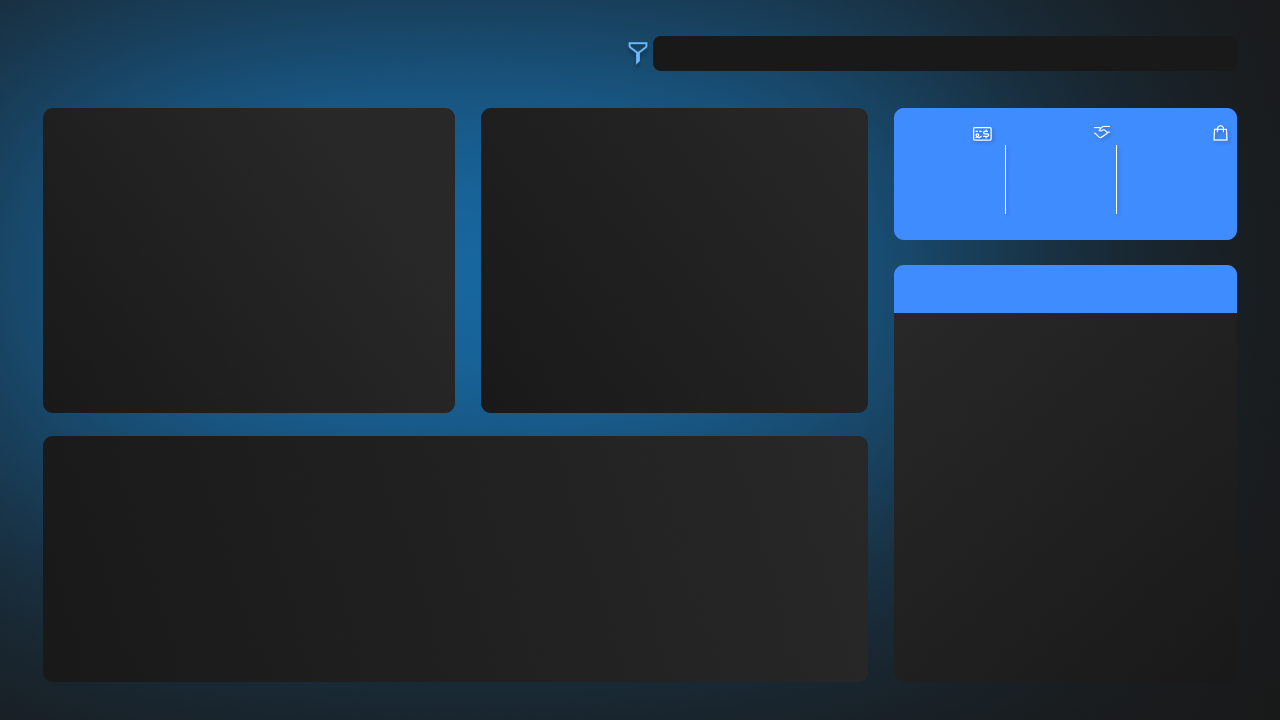

Layout of this report page (visuals, bound fields, positions):
{"tool":"powerbi","page":{"name":"Página 1","canvas":[1280,720],"ordinal":0},"visuals":[{"type":"card","fields":{"Values":["Sum(registroVendas.Total de Vendas)"]},"box":[892.4,150.8,112.2,34.1],"z":0},{"type":"card","fields":{"Values":["Avg(registroVendas.Total de Vendas)"]},"box":[1115.9,150.8,120.3,34.1],"z":1000},{"type":"clusteredColumnChart","title":"Faturamento por período","fields":{"Y":["Sum(registroVendas.Total de Vendas)"],"Category":["registroVendas.Data Pedido.Variation.Hierarquia de datas.Mês"]},"box":[50.3,444.4,817,237.9],"z":2000},{"type":"pieChart","title":"Formas de Pagamento","fields":{"Y":["Sum(registroVendas.Total de Vendas)"],"Category":["Vendas.Pagamento"]},"box":[490.2,123.9,366.3,289.1],"z":3000},{"type":"columnChart","title":" Total de Vendas por Nome Loja","fields":{"Category":["Lojas.Nome Loja"],"Y":["Sum(Vendas.Total de Vendas)"]},"box":[50.3,123.9,405.8,289.1],"z":4000},{"type":"tableEx","fields":{"Values":["Vendas.Produto","Sum(Vendas.Total de Vendas)","Divide(Sum(Vendas.Total de Vendas), ScopedEval(Sum(Vendas.Total de Vendas), []))"]},"box":[893.3,316,342.9,255.9],"z":5000},{"type":"slicer","fields":{"Values":["Vendas.Produto"]},"box":[660,36.8,600.6,27.8],"z":6000},{"type":"textbox","title":"Gestão de vendas / Dashboard","box":[50,27,511.7,49.4],"z":7000},{"type":"textbox","title":"Acompanhamento das vendas","box":[50.3,62,238.8,18],"z":8000},{"type":"card","fields":{"Values":["Vendas.Comissão"]},"box":[1004.6,150.8,111.3,34.1],"z":9000},{"type":"textbox","title":"Faturamento","box":[892.4,189.4,112.2,18.9],"z":10000},{"type":"textbox","title":"Comissão","box":[1003.7,189.4,112.2,18.9],"z":11000},{"type":"textbox","title":"Ticket Médio","box":[1115.9,189.4,120.3,18.9],"z":12000},{"type":"textbox","title":"em reais","box":[891.5,202,112.2,12.6],"z":13000},{"type":"textbox","title":"em reais","box":[1003.7,202,112.2,12.6],"z":14000},{"type":"textbox","title":"em reais","box":[1115.9,202,112.2,12.6],"z":15000},{"type":"textbox","title":"Filtros","box":[622,38.6,61.9,25.1],"z":16000},{"type":"textbox","title":"Análise por produto","box":[893.3,274,342.9,35],"z":17000}]}

Visuals, with their boxes in screenshot pixels (x1, y1, x2, y2), scaled from the page's 1280x720 canvas onto the 1280x720 screenshot:
card - Sum(registroVendas.Total de Vendas): {"x1": 892, "y1": 151, "x2": 1005, "y2": 185}
card - Avg(registroVendas.Total de Vendas): {"x1": 1116, "y1": 151, "x2": 1236, "y2": 185}
"Faturamento por período" clusteredColumnChart: {"x1": 50, "y1": 444, "x2": 867, "y2": 682}
"Formas de Pagamento" pieChart: {"x1": 490, "y1": 124, "x2": 856, "y2": 413}
" Total de Vendas por Nome Loja" columnChart: {"x1": 50, "y1": 124, "x2": 456, "y2": 413}
tableEx - Vendas.Produto x Sum(Vendas.Total de Vendas): {"x1": 893, "y1": 316, "x2": 1236, "y2": 572}
slicer - Vendas.Produto: {"x1": 660, "y1": 37, "x2": 1261, "y2": 65}
"Gestão de vendas / Dashboard" textbox: {"x1": 50, "y1": 27, "x2": 562, "y2": 76}
"Acompanhamento das vendas" textbox: {"x1": 50, "y1": 62, "x2": 289, "y2": 80}
card - Vendas.Comissão: {"x1": 1005, "y1": 151, "x2": 1116, "y2": 185}
"Faturamento" textbox: {"x1": 892, "y1": 189, "x2": 1005, "y2": 208}
"Comissão" textbox: {"x1": 1004, "y1": 189, "x2": 1116, "y2": 208}
"Ticket Médio" textbox: {"x1": 1116, "y1": 189, "x2": 1236, "y2": 208}
"em reais" textbox: {"x1": 892, "y1": 202, "x2": 1004, "y2": 215}
"em reais" textbox: {"x1": 1004, "y1": 202, "x2": 1116, "y2": 215}
"em reais" textbox: {"x1": 1116, "y1": 202, "x2": 1228, "y2": 215}
"Filtros" textbox: {"x1": 622, "y1": 39, "x2": 684, "y2": 64}
"Análise por produto" textbox: {"x1": 893, "y1": 274, "x2": 1236, "y2": 309}
